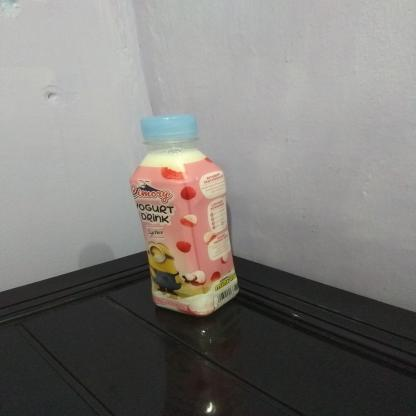plastic: (127, 110, 241, 318)
